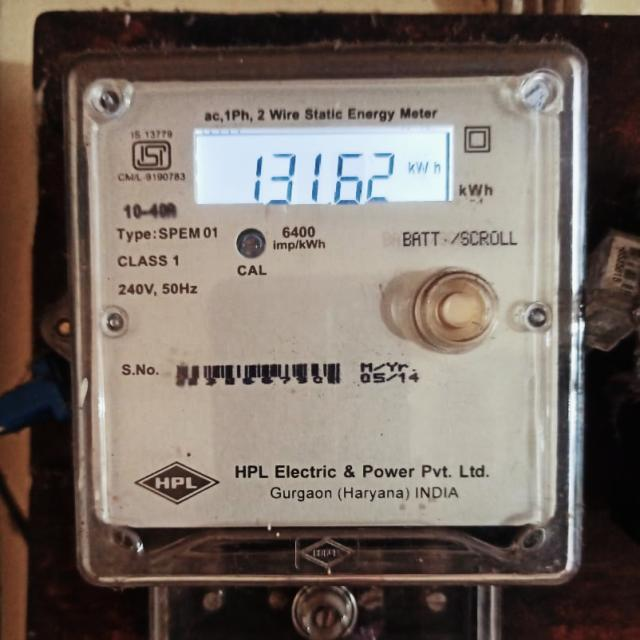display: (195, 133, 453, 206)
